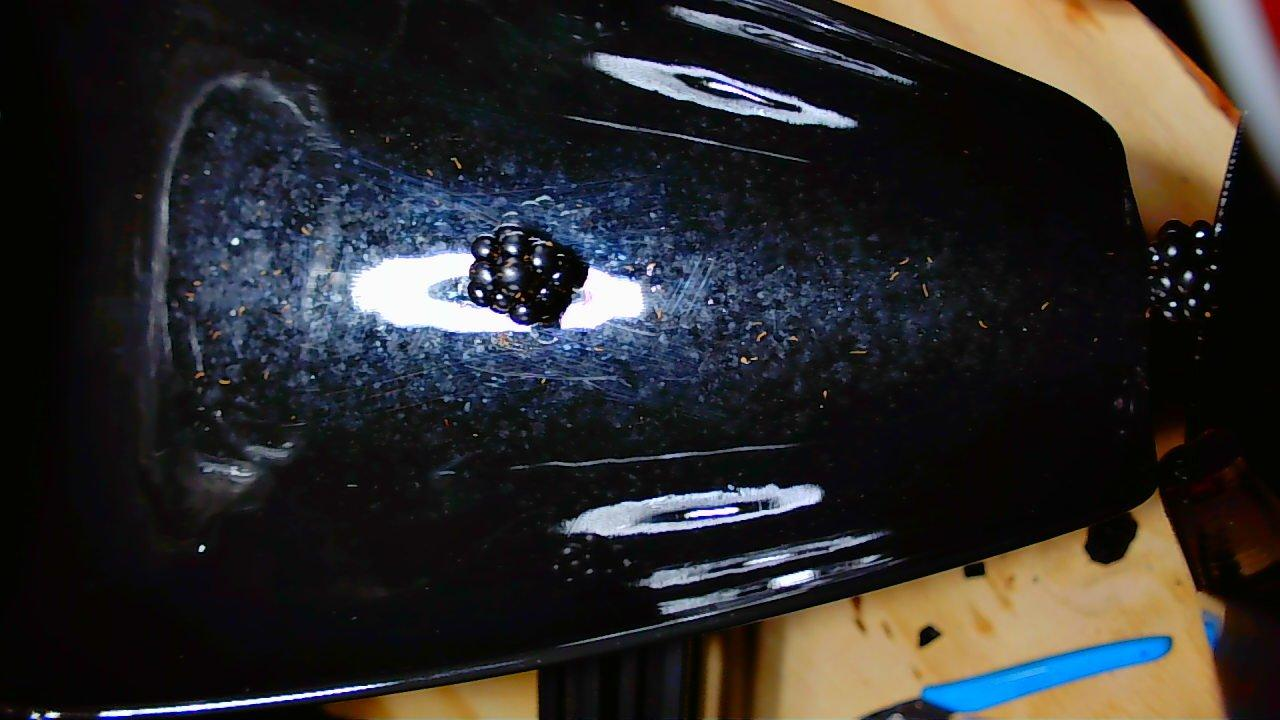berry: (467, 222, 587, 325), (1148, 220, 1219, 322)
